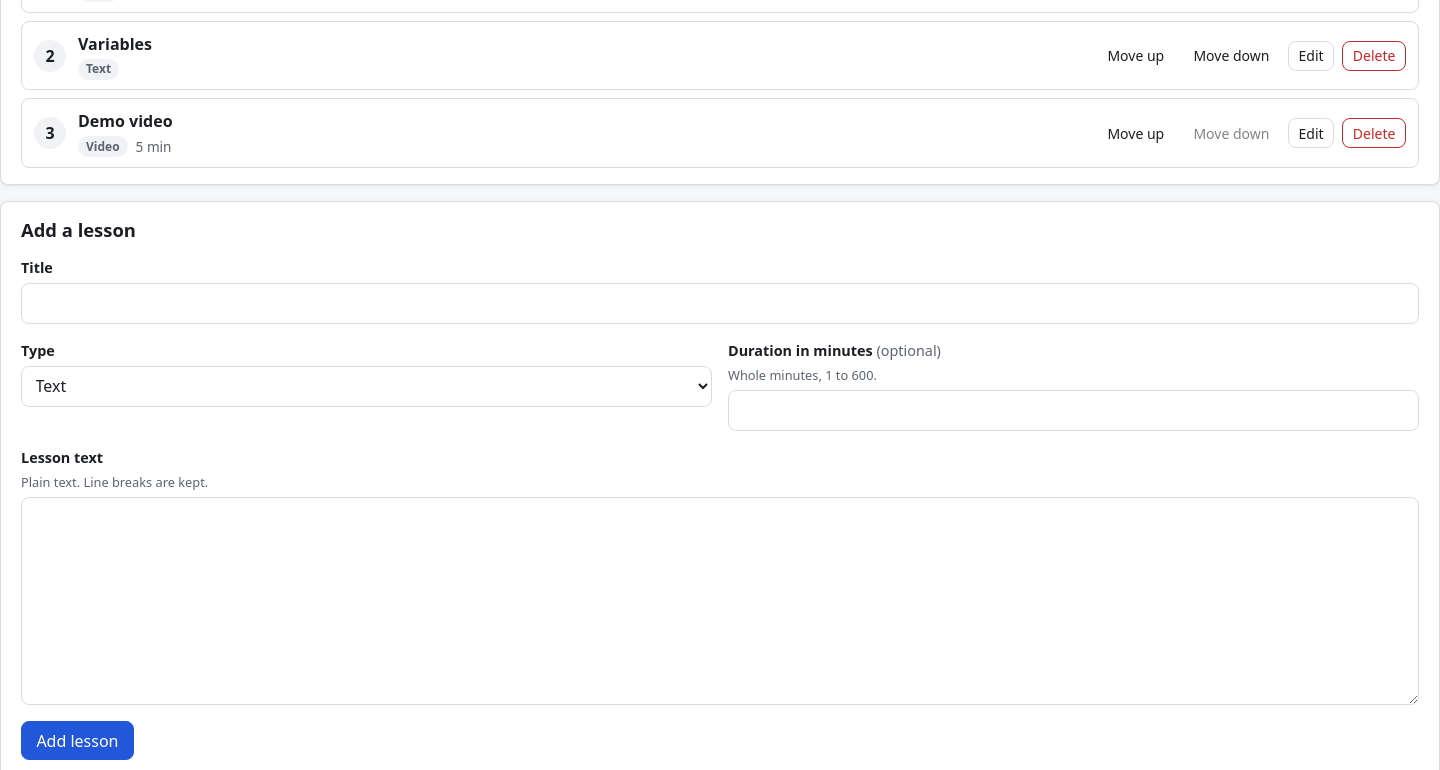
Test: EditCoursePage › clears body and URL errors when the lesson type changes
(page scrolled)
Click the button "Add lesson" at (77, 741), box [21,721,134,760]
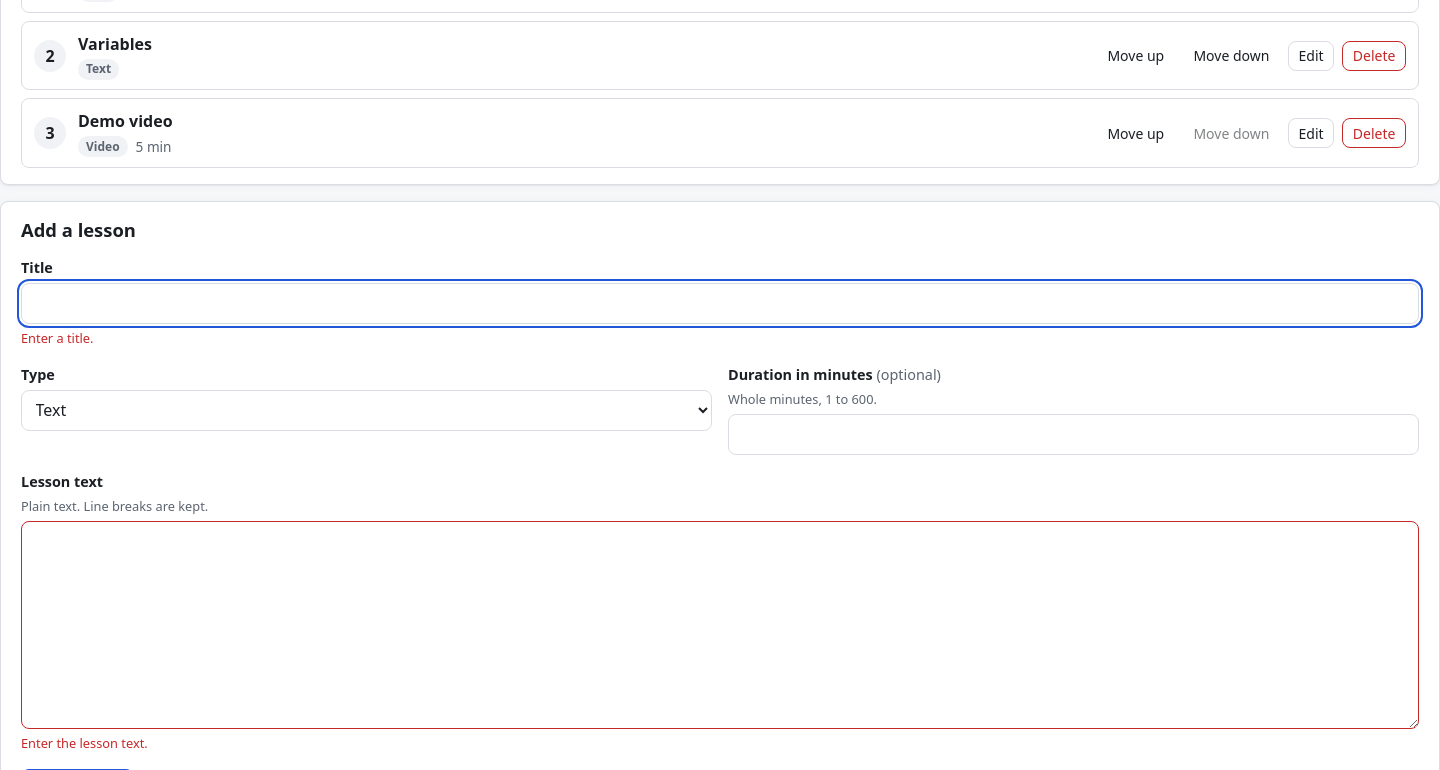
Now the text box labelled "Lesson text" is marked as invalid, box [21,521,1419,729]
Select "Video" in the dropdown labelled "Type" at (366, 410), box [21,390,712,431]
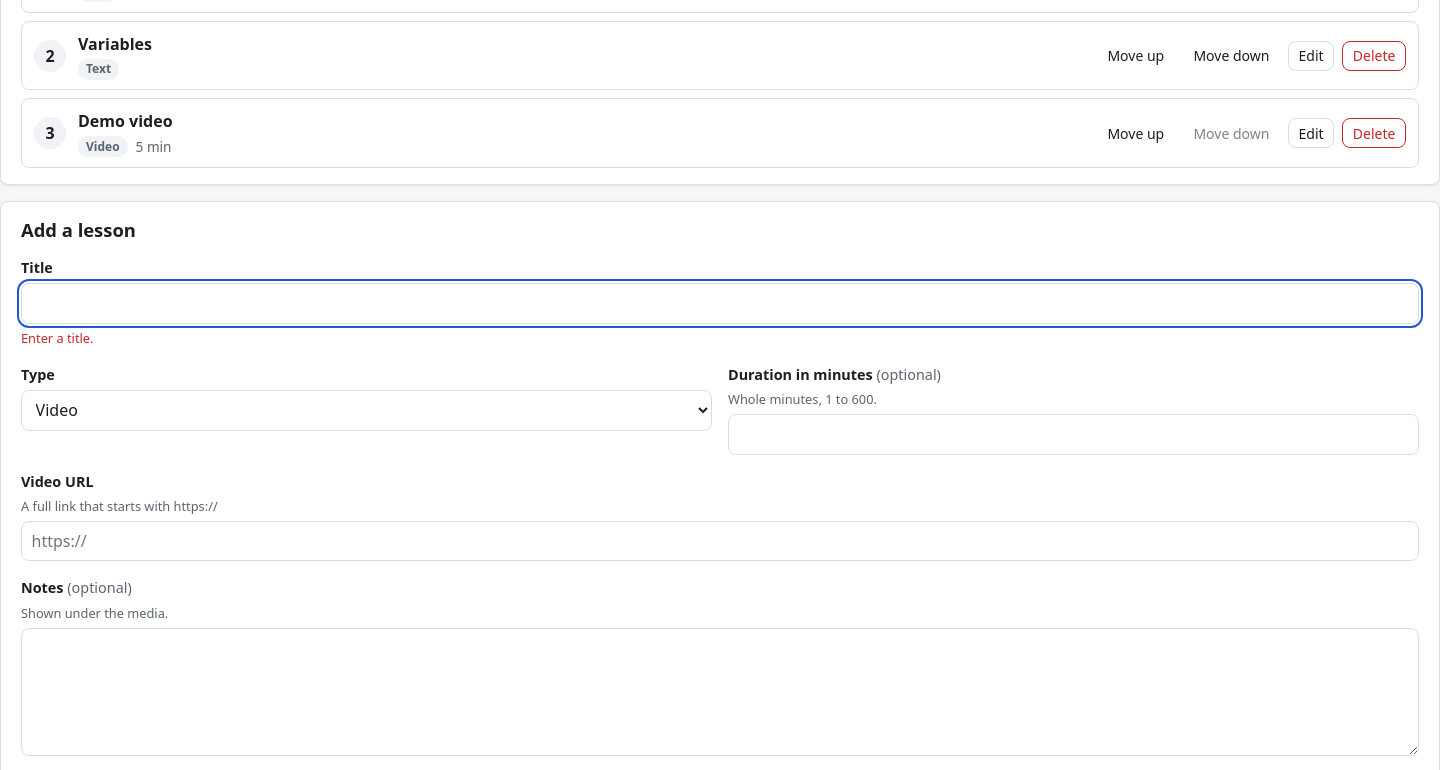
Now the text "Enter the lesson text." is gone
